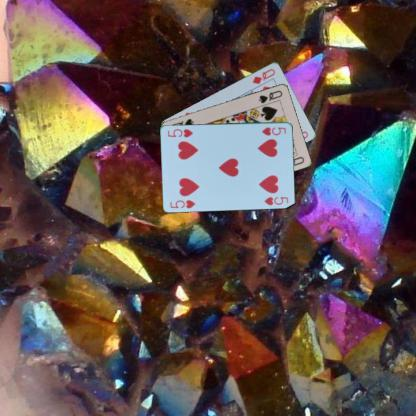5h: (168, 197, 196, 210), (260, 124, 287, 137)
Qd: (250, 66, 276, 85)
Qs: (256, 87, 284, 105)
